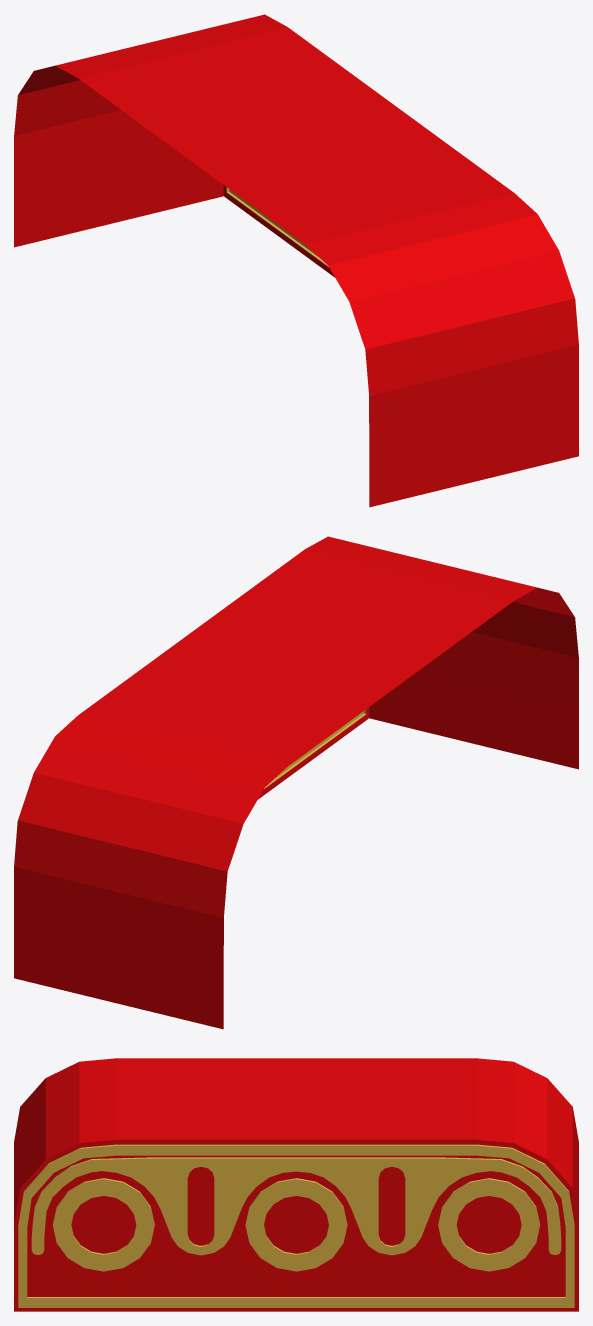
The model's file is Table.fbx.
3 views of the same model, one above another, from view 1: azimuth 30°, elevation 25°; view 2: azimuth 150°, elevation 25°; view 3: azimuth 270°, elevation 25° (orthographic). The views are drawn at different scales.
Parts seen in each view (by area): view 1: Cube; view 2: Cube; view 3: Cube, Cube.001.
Part boxes in pixels (box(x1,y1,x2,y2)): Cube: box(14, 14, 578, 507); Cube: box(14, 536, 578, 1029); Cube: box(14, 1058, 578, 1311); Cube.001: box(31, 1157, 561, 1271).
Size of the model in its own units: 203 by 197 by 586.
